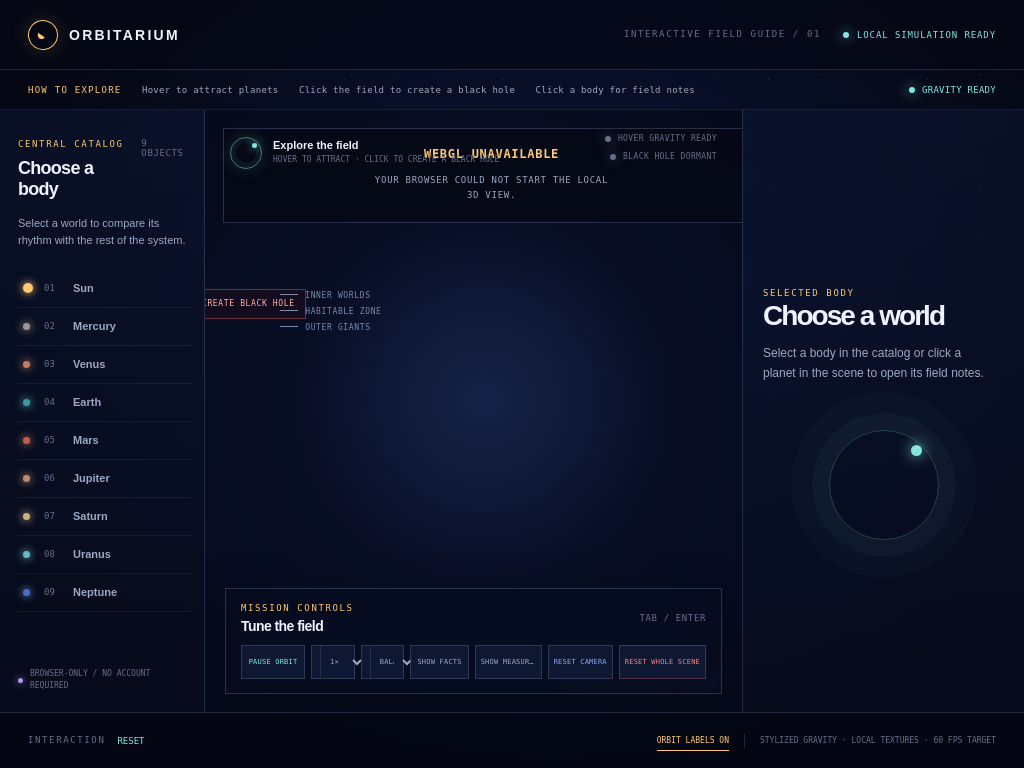
educational control interface › toggles facts and measurement overlays and renders selected-body facts
Click the button "04 Earth" at (105, 403), box [18, 384, 192, 422]
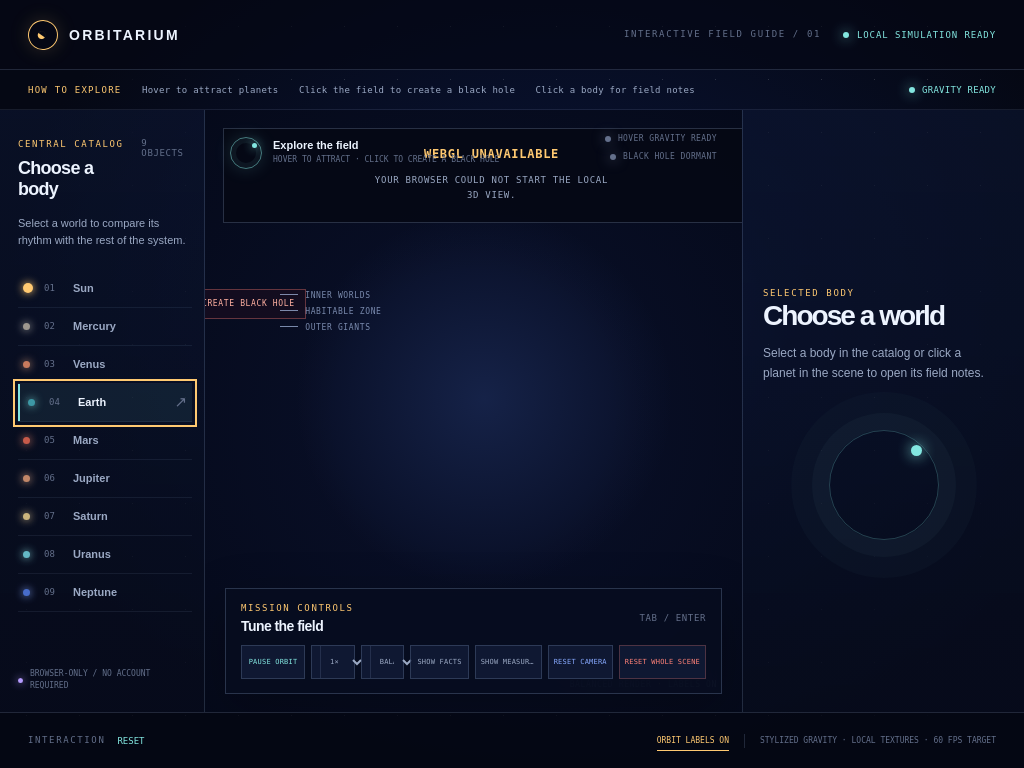
Click the button "Show facts" at (440, 662), box [410, 645, 469, 679]
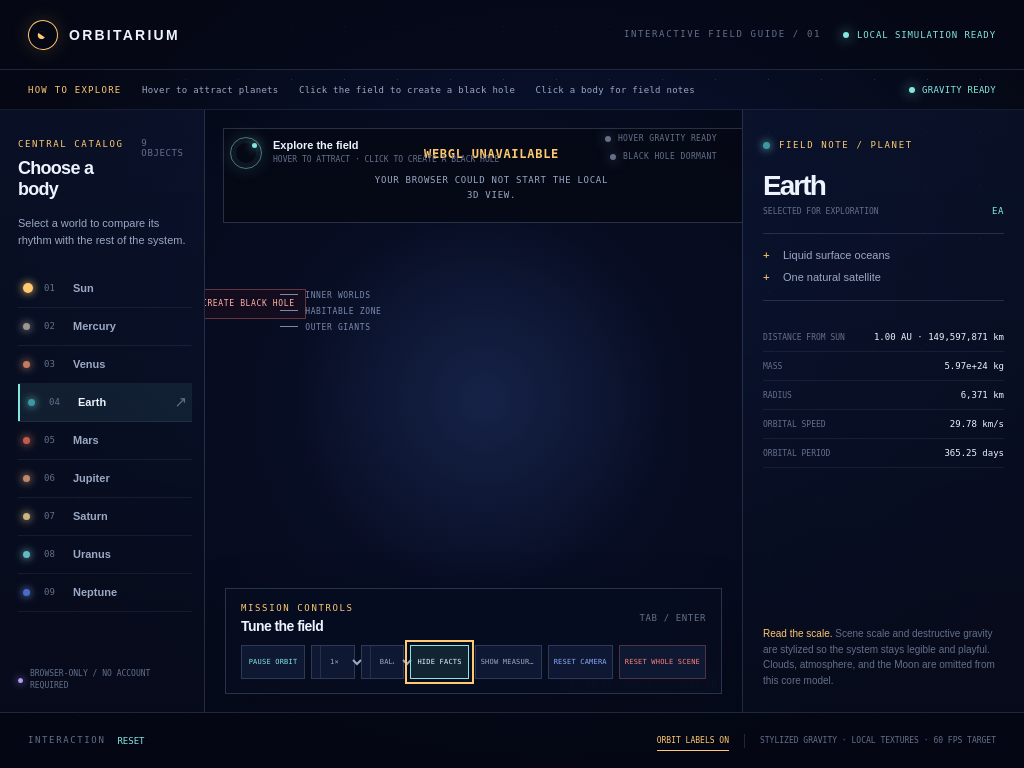
Check: the heading "Earth" is shown, box [763, 170, 825, 201]
Check: the text "5.97e+24 kg" is shown, box [944, 361, 1004, 371]
Click the button "Show measurements" at (508, 662), box [475, 645, 542, 679]
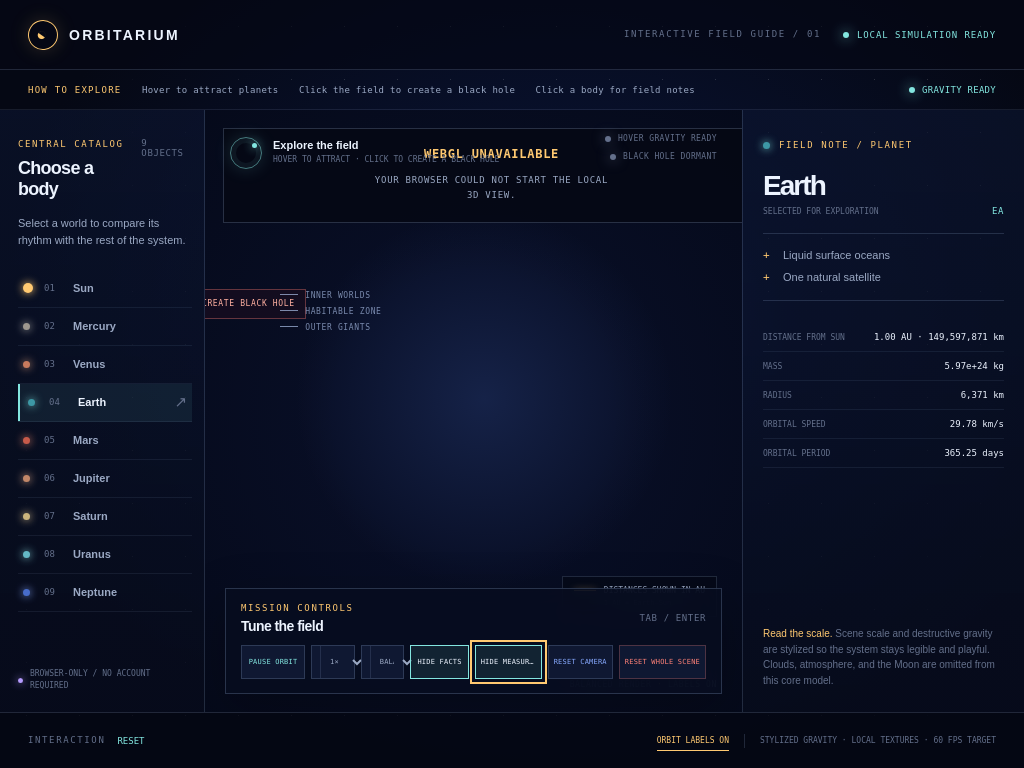
Check: the text "Distances shown in AU" is shown, box [604, 586, 705, 595]
